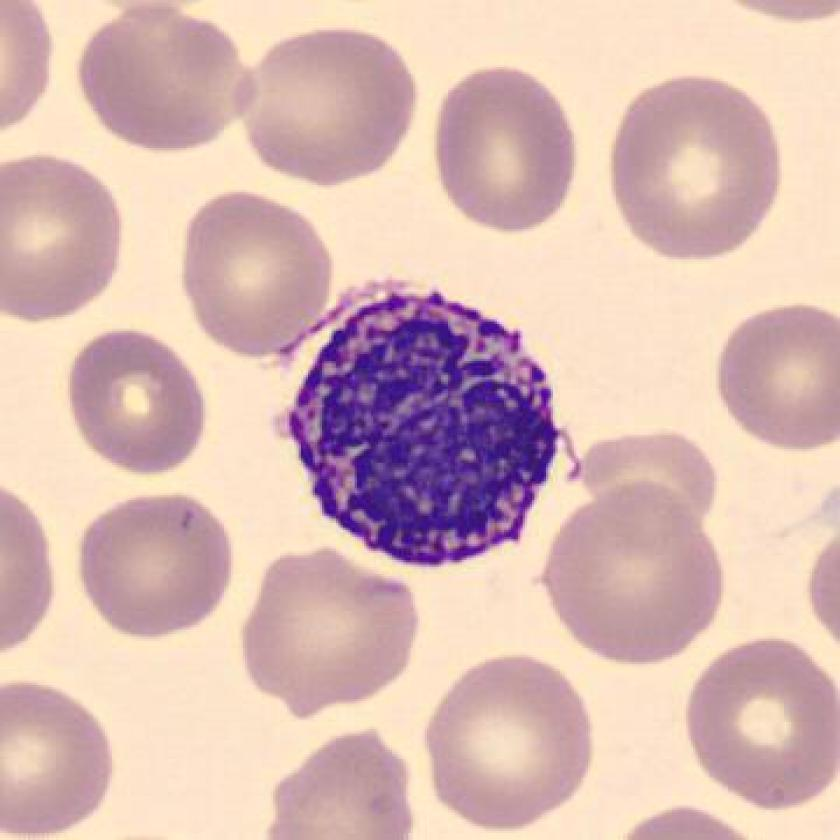basophil: (281, 277, 556, 573)
